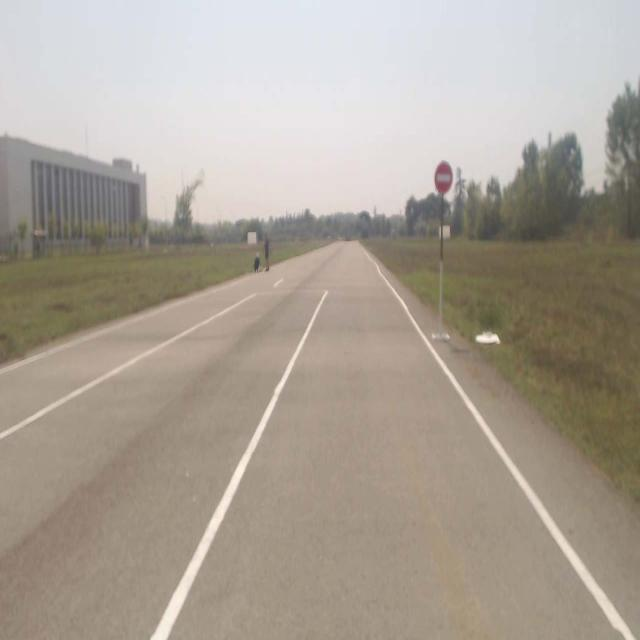girisyok: (435, 162, 452, 193)
